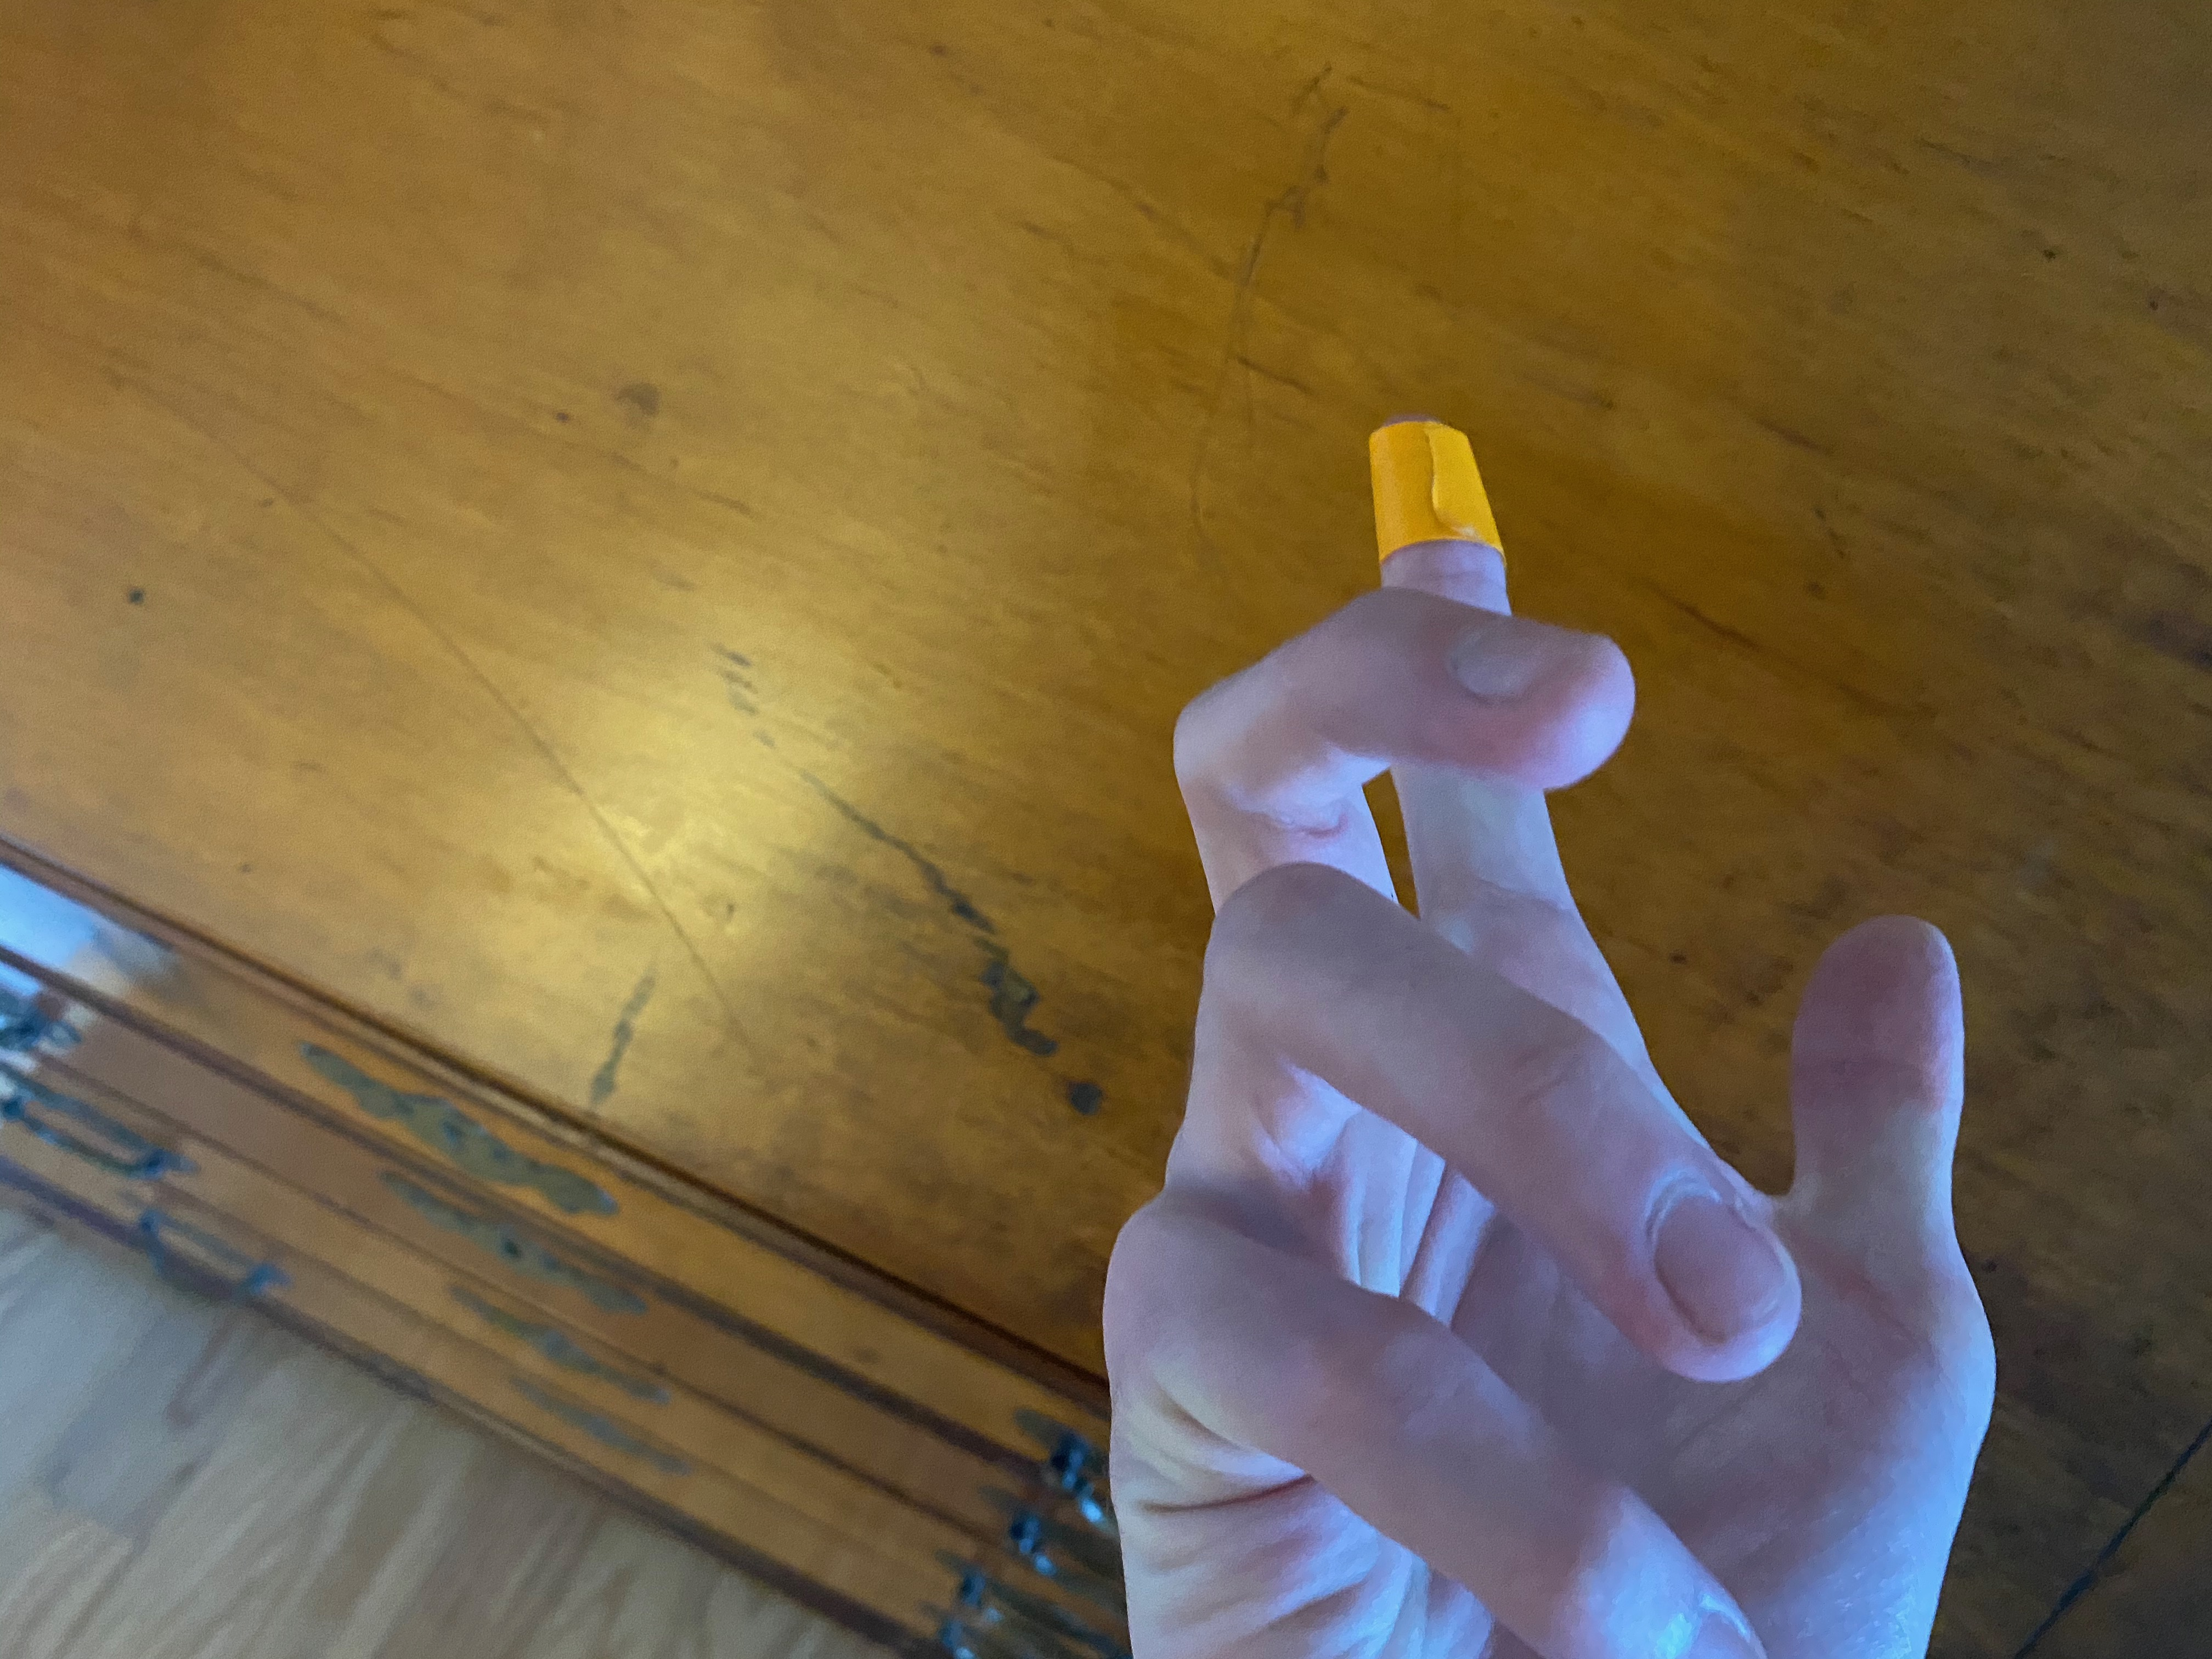fingertip: (1341, 416, 1550, 636)
